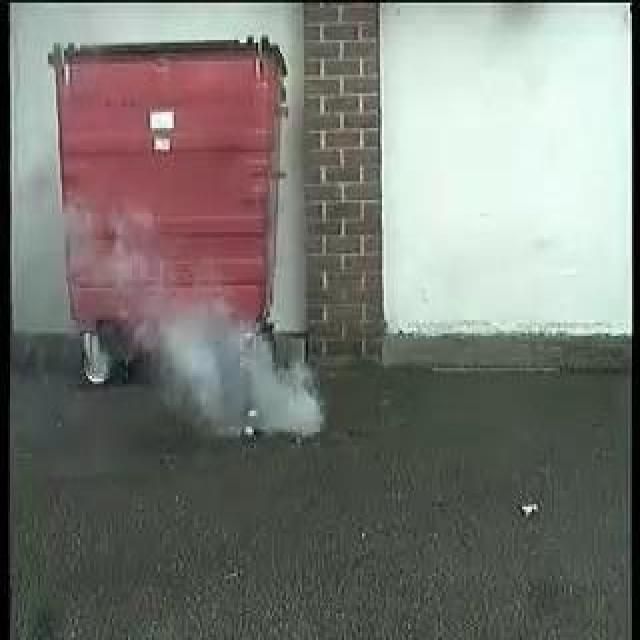Smoke: (168, 302, 324, 438)
